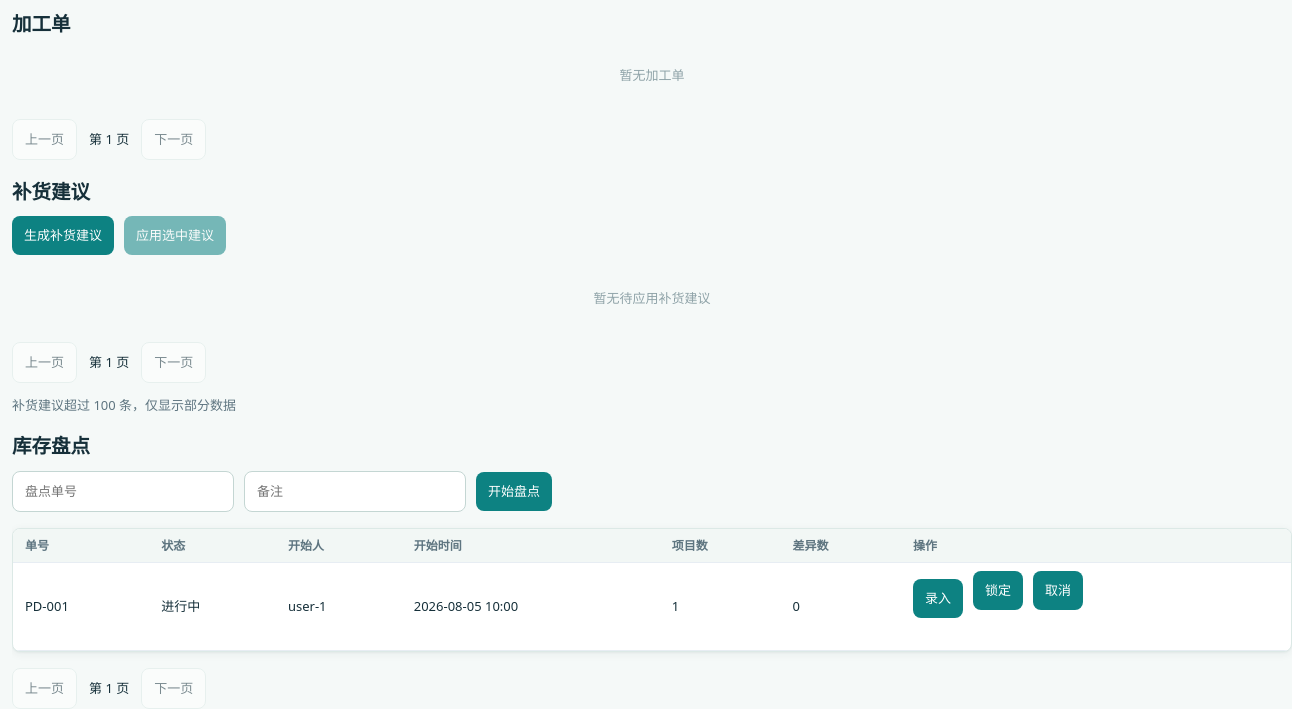
Test: InventoryWorkflowPage › renders missing panel item arrays and stocktake item errors
(page scrolled)
Expected: the text "暂无加工单" is shown, left=620, top=66, right=684, bottom=84
Expected: the text "补货建议超过 100 条，仅显示部分数据" is shown, left=12, top=396, right=236, bottom=414
What coordinates should you click on to do the following:
click the button "录入"
I would click on:
 (938, 598)
Its box is left=913, top=579, right=963, bottom=618.
(page scrolled)
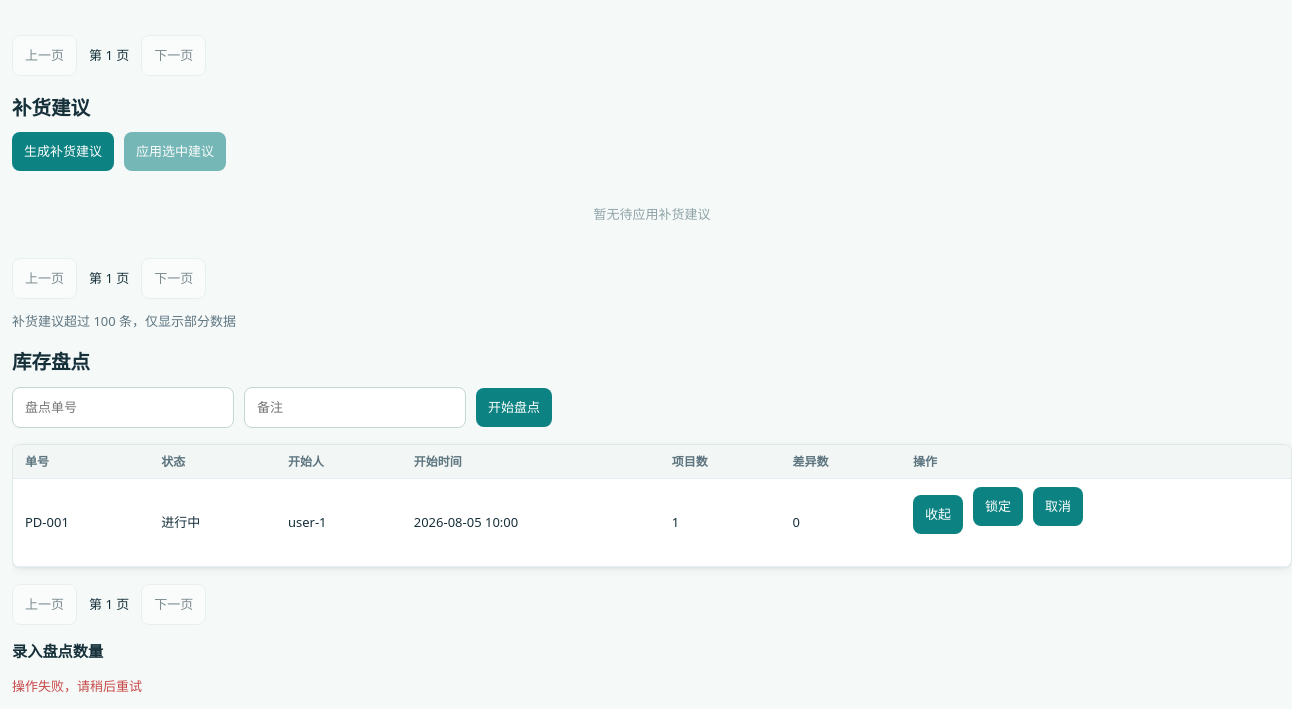
Result: the text "操作失败，请稍后重试" is shown at left=12, top=677, right=142, bottom=695
